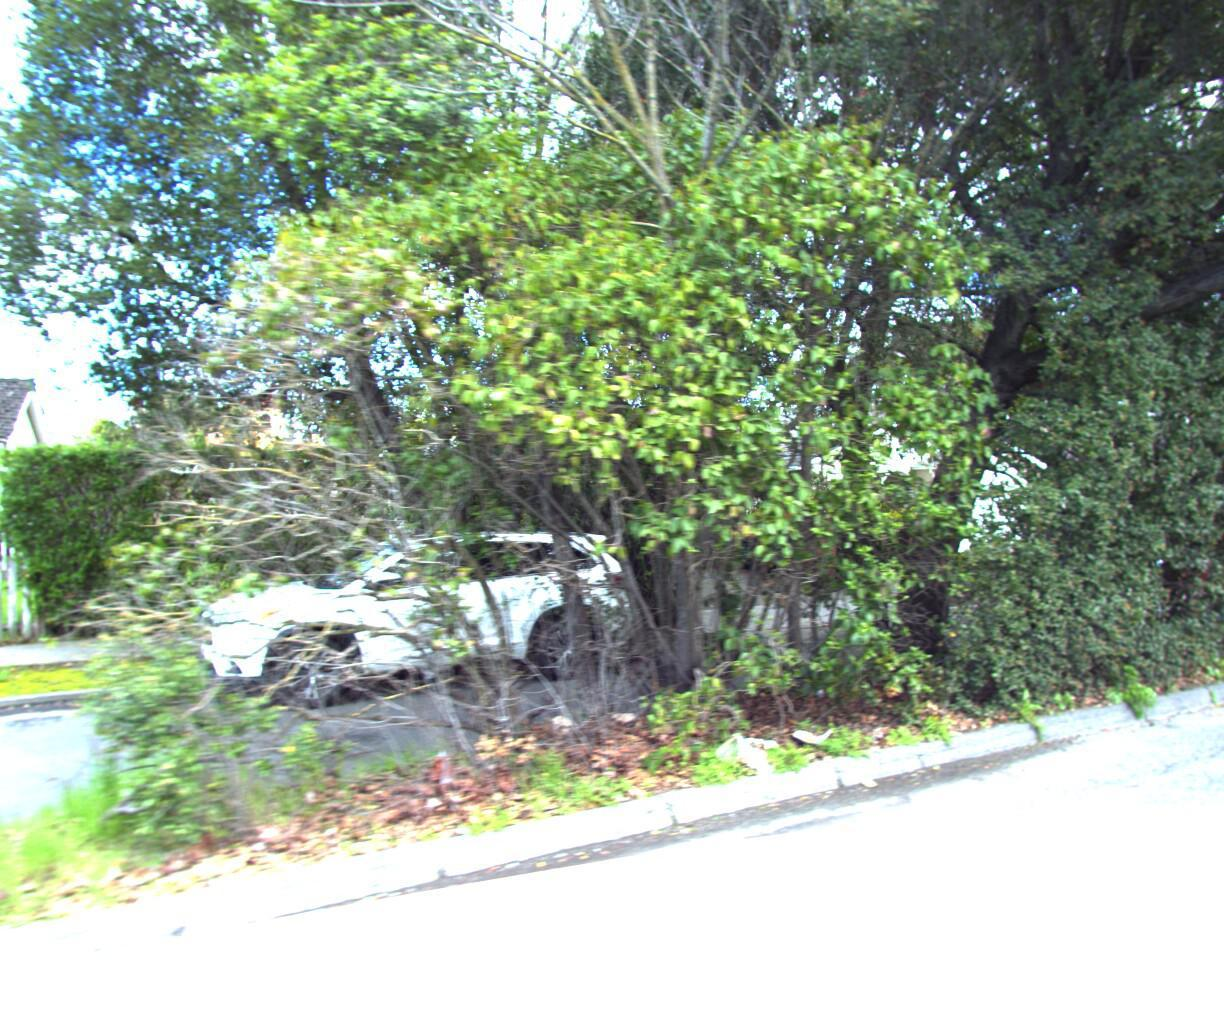car: (173, 522, 650, 742)
